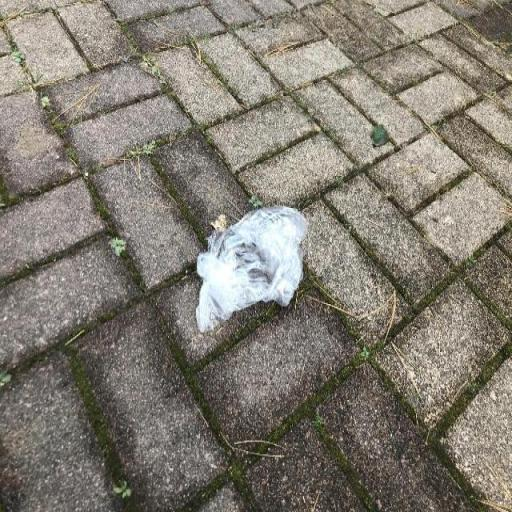plastic-bag: (196, 203, 310, 334)
